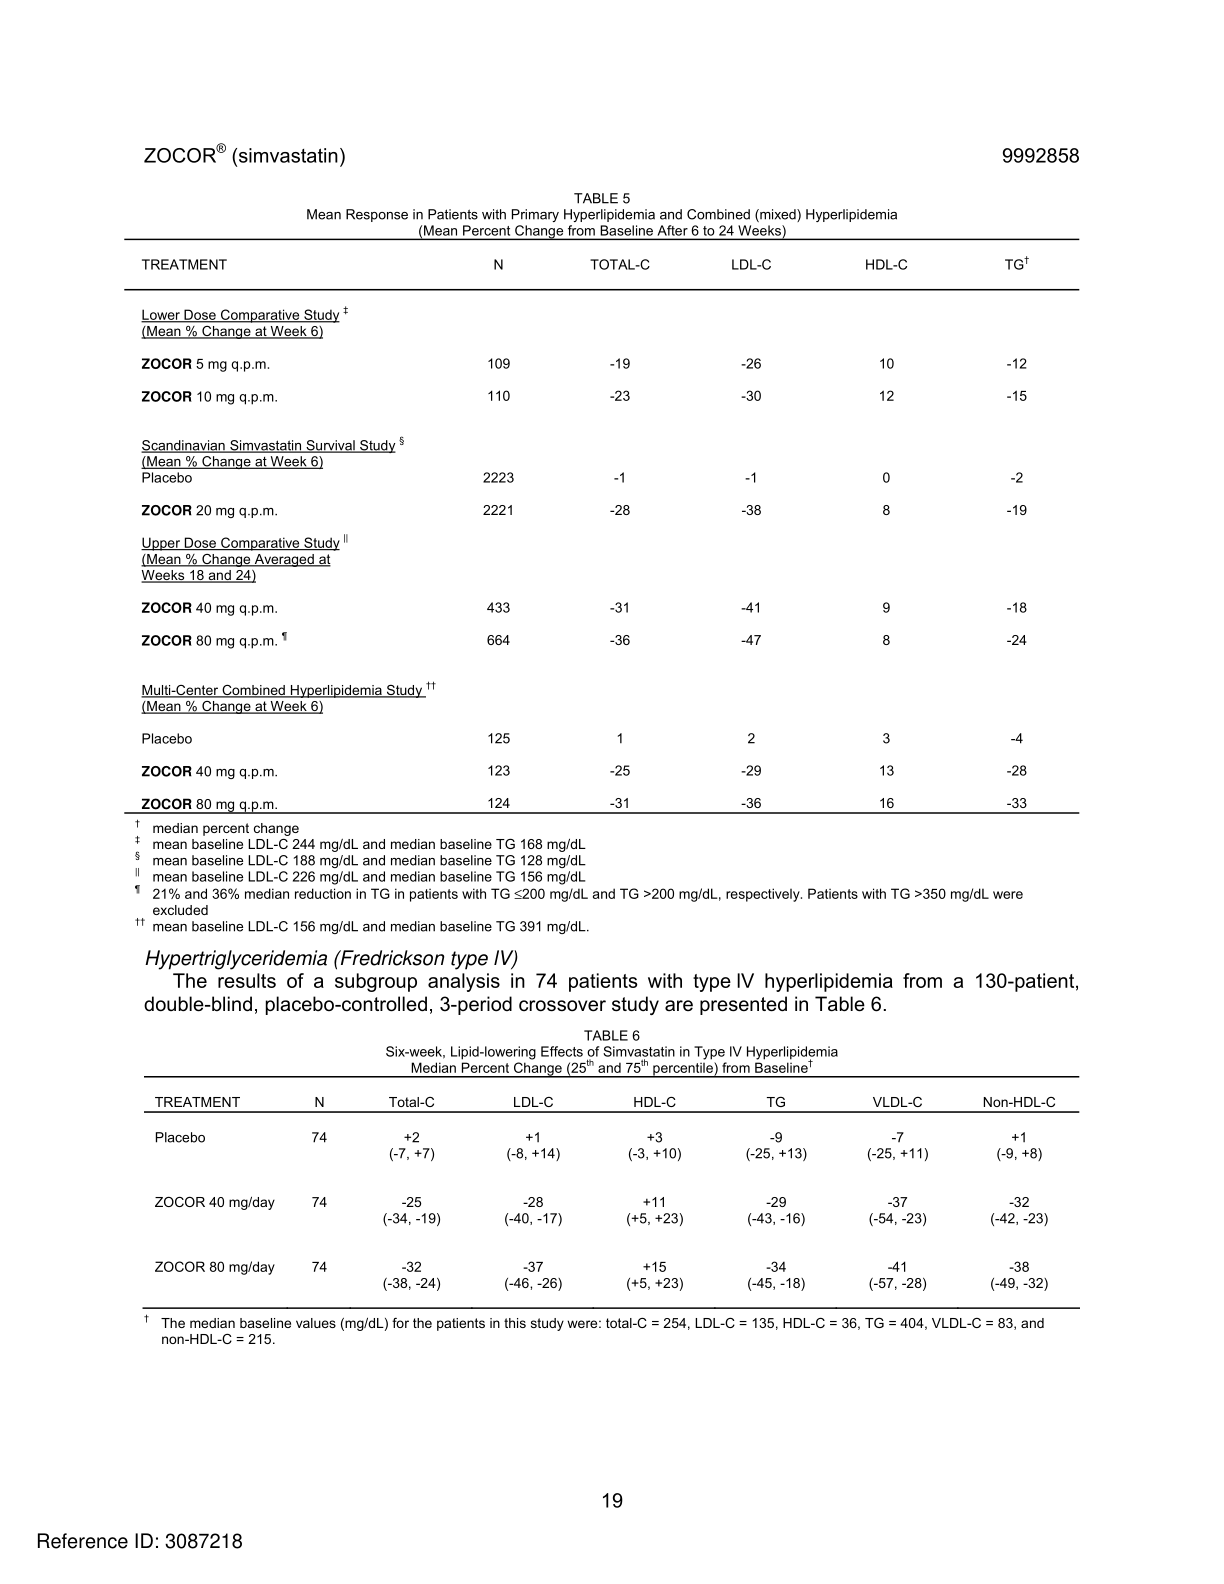partial_lined: (123, 237, 1086, 816), (141, 1074, 1083, 1310)
